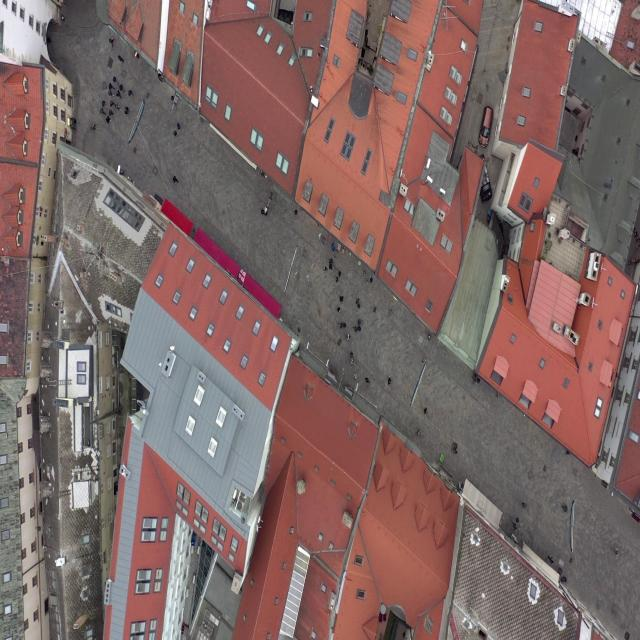Van: (478, 104, 495, 149)
